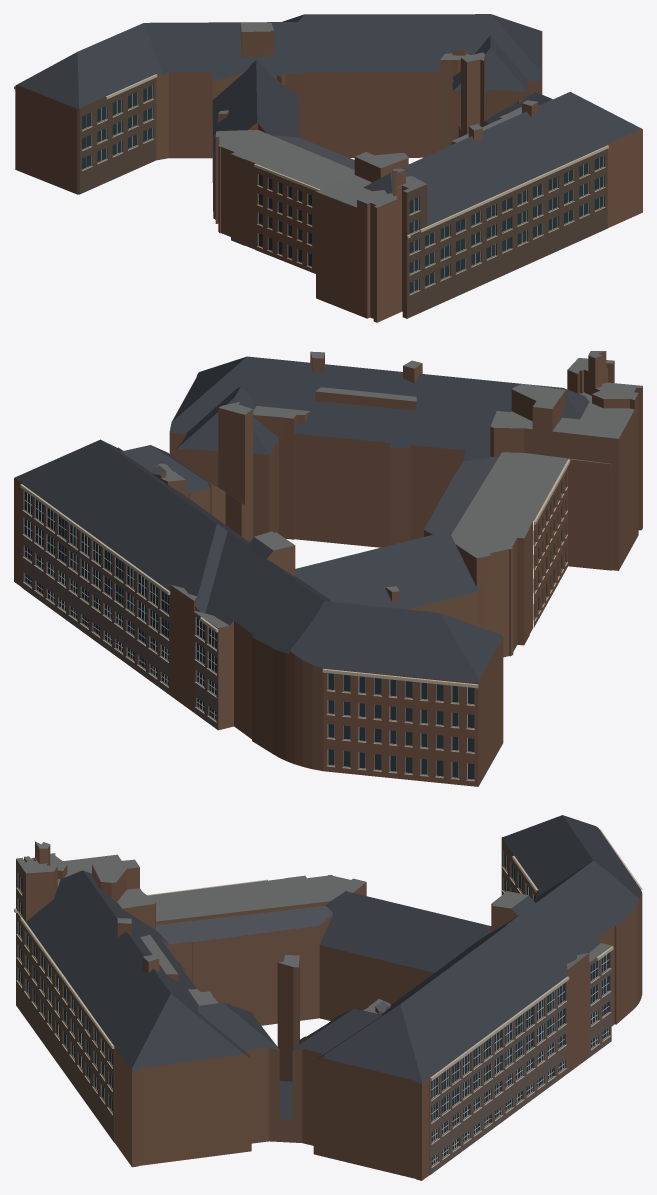
File: recipe-large-nieuwe-achtergracht-253754.glb
3 renders of one model, top to bottom at view 1: azimuth 30°, elevation 25°; view 2: azimuth 150°, elevation 25°; view 3: azimuth 270°, elevation 25°, orthographic. The views are drawn at different scales.
Parts seen in each view (by area): view 1: nieuwe-achtergracht-253754; view 2: nieuwe-achtergracht-253754; view 3: nieuwe-achtergracht-253754.
Part boxes in pixels (x1,y1,x2,y2): nieuwe-achtergracht-253754: (14,14,642,322); nieuwe-achtergracht-253754: (14,351,642,786); nieuwe-achtergracht-253754: (14,815,642,1180).
Bounding box in the file's own units: 84.04 × 24.97 × 87.32.
